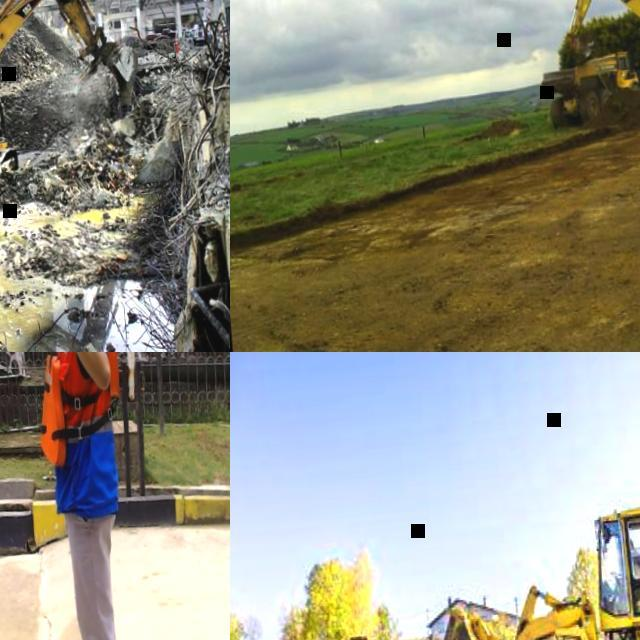vest: (27, 352, 129, 470)
